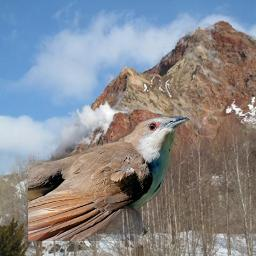Cuckoo: (28, 116, 190, 241)
